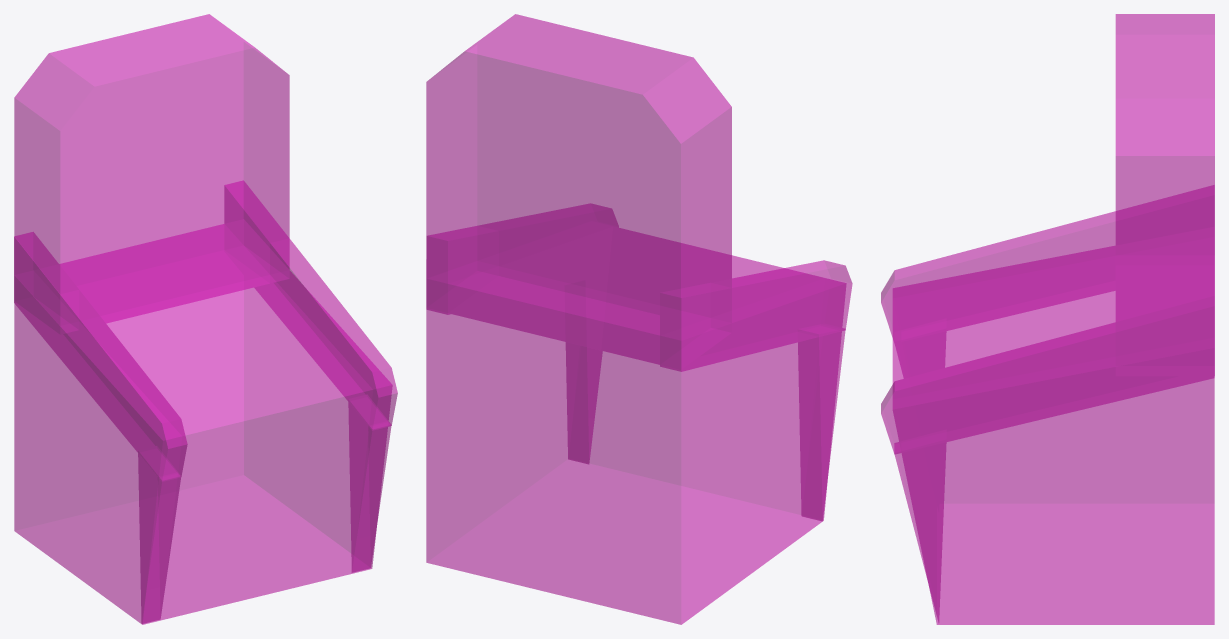
File: SM_Prop_Arcade_Machine_01_Collision.fbx
3 views of the same model, side by side, from view 1: azimuth 30°, elevation 25°; view 2: azimuth 150°, elevation 25°; view 3: azimuth 270°, elevation 25° (orthographic). The views are drawn at different scales.
Parts seen in each view (by area): view 1: SM_Prop_Arcade_Machine_01_Collision; view 2: SM_Prop_Arcade_Machine_01_Collision; view 3: SM_Prop_Arcade_Machine_01_Collision.
Boxes of the visible parts, x1,y1,x2,y2 form: SM_Prop_Arcade_Machine_01_Collision: (14,14,397,624); SM_Prop_Arcade_Machine_01_Collision: (426,14,852,624); SM_Prop_Arcade_Machine_01_Collision: (881,14,1214,624).
Size of the model in its own units: 111 by 217 by 129.
